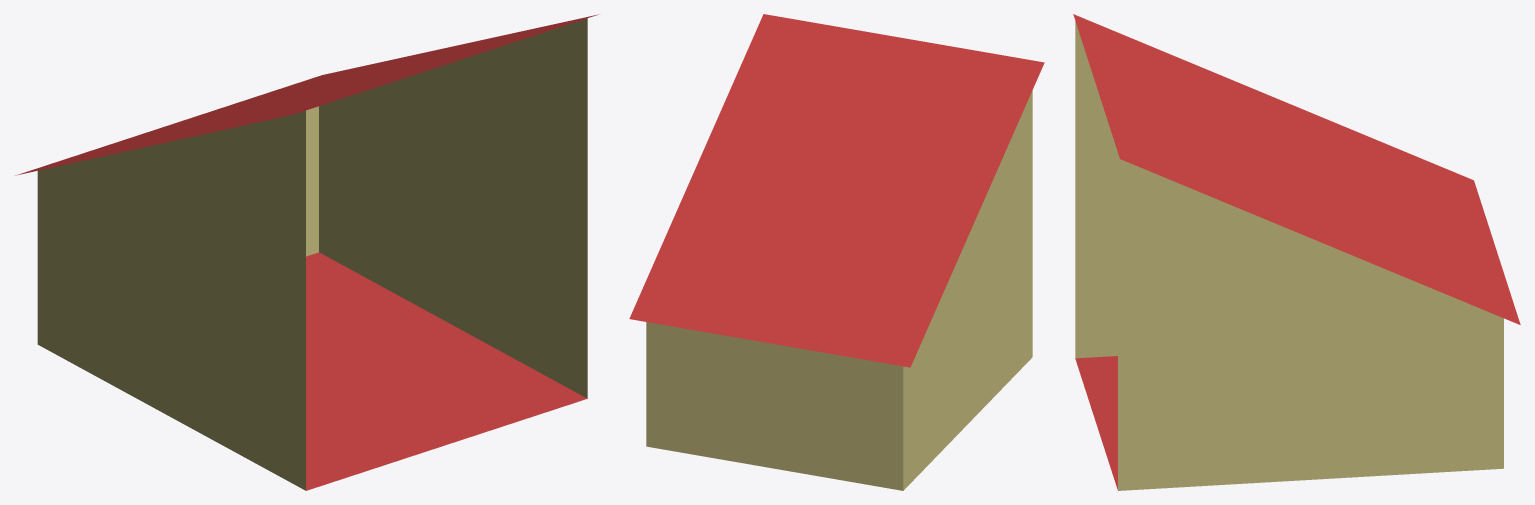
The picture shows the model from 3 angles, left to right: view 1: azimuth 30°, elevation 25°; view 2: azimuth 150°, elevation 25°; view 3: azimuth 270°, elevation 25°; orthographic projection. The views are drawn at different scales.
Size of the model in its own units: 13.43 by 15.11 by 12.6.
